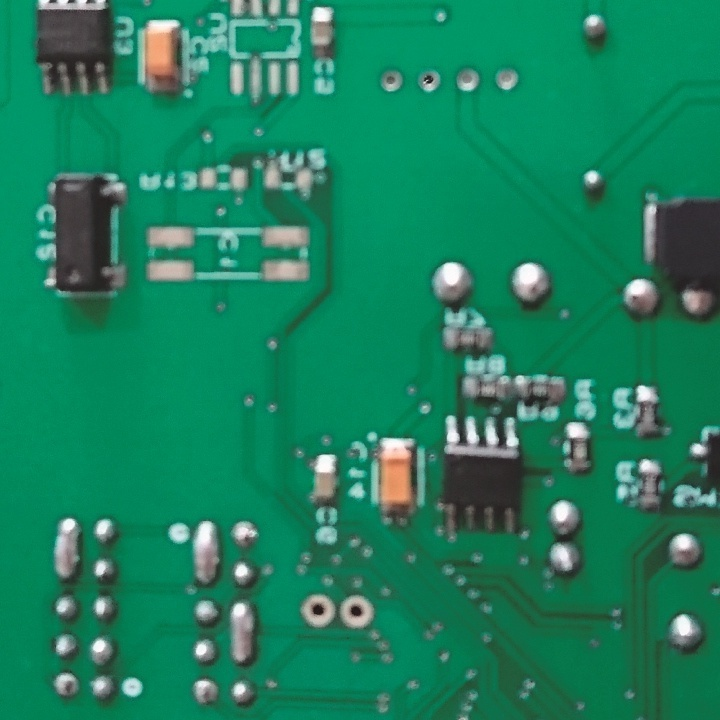F: (336, 592, 376, 632), (297, 594, 336, 628), (374, 65, 408, 97), (490, 60, 520, 96), (230, 518, 261, 552), (453, 63, 484, 96), (415, 66, 444, 98), (189, 675, 218, 707), (51, 670, 81, 698)
P: (190, 519, 221, 587), (53, 515, 84, 583), (229, 598, 256, 671)
